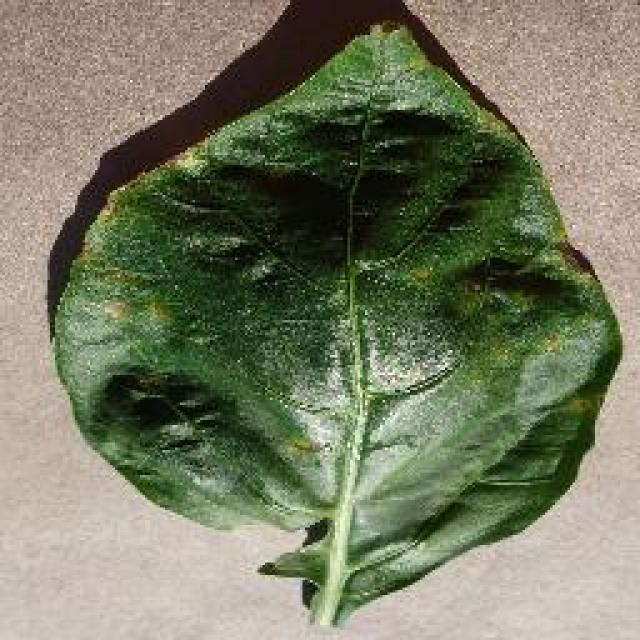Chilli_Bacterial_Spot: (45, 18, 625, 628), (90, 360, 238, 458), (358, 325, 462, 400), (95, 290, 175, 330), (552, 235, 598, 280), (140, 295, 175, 327), (285, 432, 323, 460), (98, 295, 132, 325), (365, 15, 405, 37), (405, 260, 435, 288)
